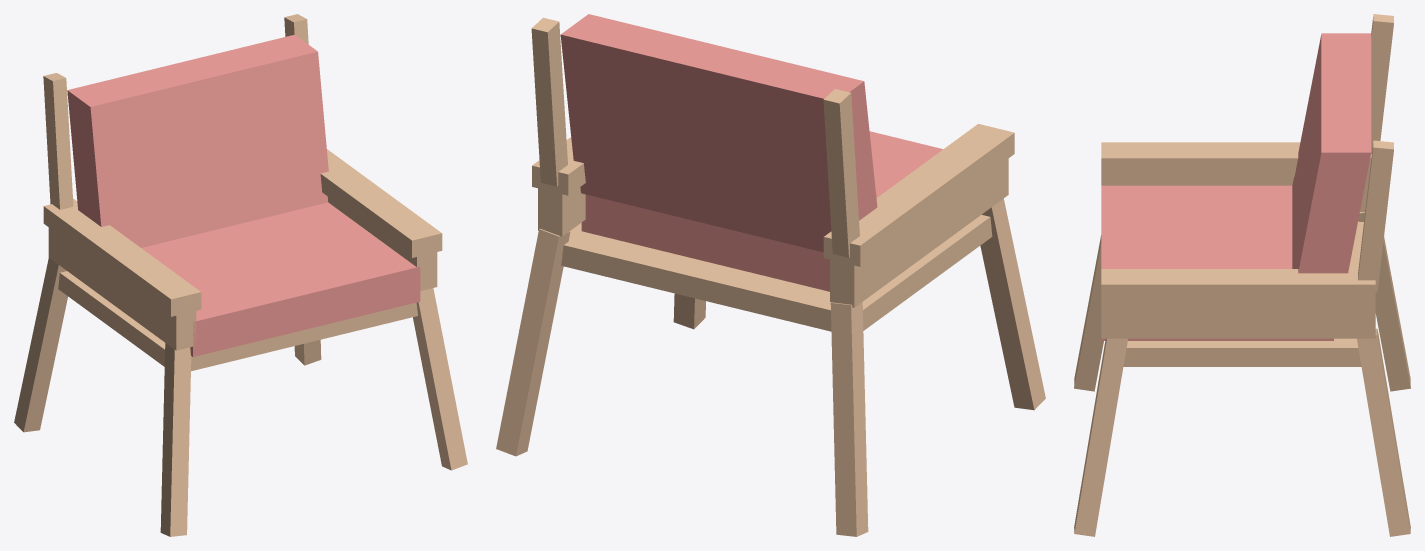
The model's file is armchairMidcentury.glb.
3 renders of one model, left to right at view 1: azimuth 30°, elevation 25°; view 2: azimuth 150°, elevation 25°; view 3: azimuth 270°, elevation 25°, orthographic. The views are drawn at different scales.
Visible parts, largest first — view 1: armchairMidcentury; view 2: armchairMidcentury; view 3: armchairMidcentury.
Boxes of the visible parts, x1,y1,x2,y2 form: armchairMidcentury: (14,14,467,536); armchairMidcentury: (496,14,1045,536); armchairMidcentury: (1074,14,1410,536).
Bounding box in the file's own units: 0.4448 × 0.5047 × 0.4052.
